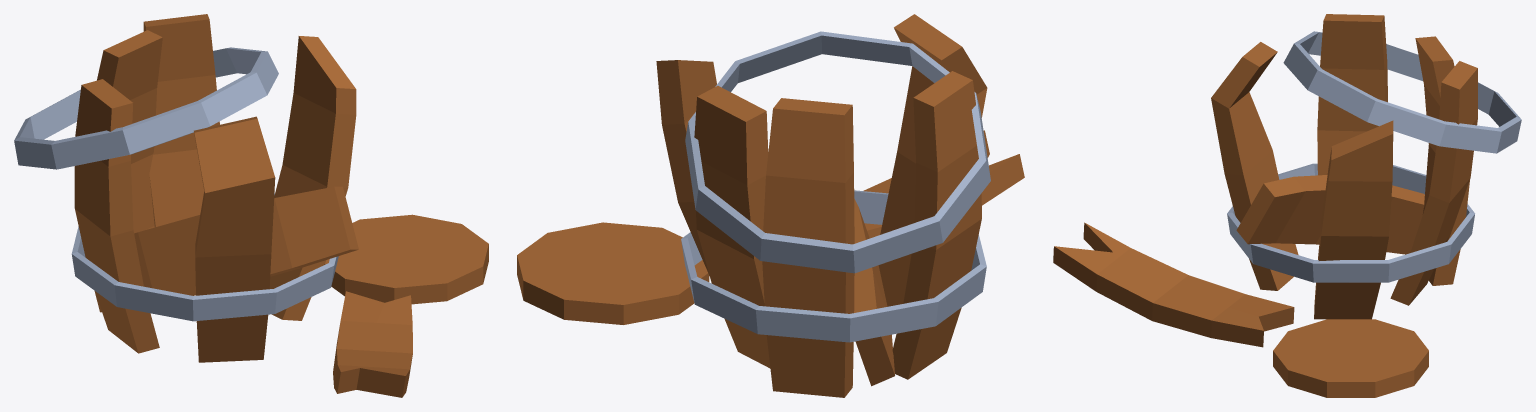
Rendered from broken_barrell.fbx.
3 renders of one model, left to right at view 1: azimuth 30°, elevation 25°; view 2: azimuth 150°, elevation 25°; view 3: azimuth 270°, elevation 25°, orthographic. The views are drawn at different scales.
Visible parts, largest first — view 1: barrel.001; view 2: barrel.001; view 3: barrel.001.
Boxes of the visible parts, x1,y1,x2,y2 form: barrel.001: (14,14,488,397); barrel.001: (517,14,1024,397); barrel.001: (1053,14,1521,397).
Size of the model in its own units: 250 by 274 by 151.
